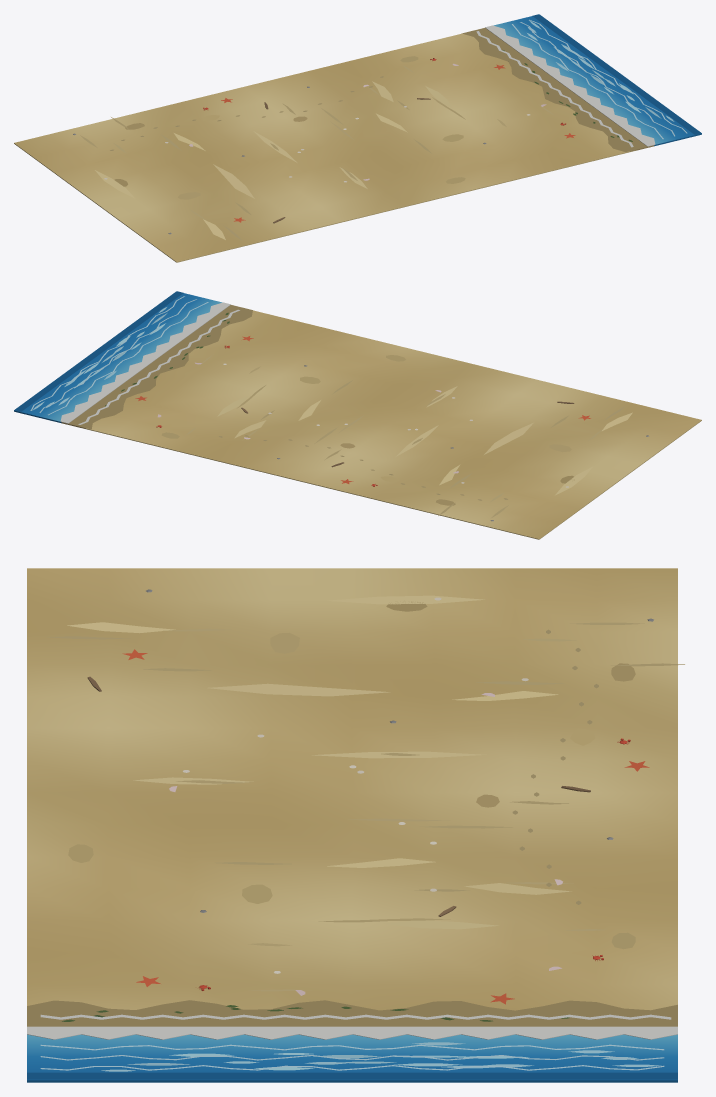
The model's file is Decor_BeachBar_SandFloor.fbx.
3 views of the same model, one above another, from view 1: azimuth 30°, elevation 25°; view 2: azimuth 150°, elevation 25°; view 3: azimuth 270°, elevation 25° (orthographic). The views are drawn at different scales.
Parts seen in each view (by area): view 1: SandFloor_Body; view 2: SandFloor_Body; view 3: SandFloor_Body.
Boxes of the visible parts, bbox=[...] form: SandFloor_Body: bbox=[14, 14, 701, 262]; SandFloor_Body: bbox=[14, 291, 701, 539]; SandFloor_Body: bbox=[27, 568, 684, 1082].
Size of the model in its own units: 176 by 0.5 by 96.
